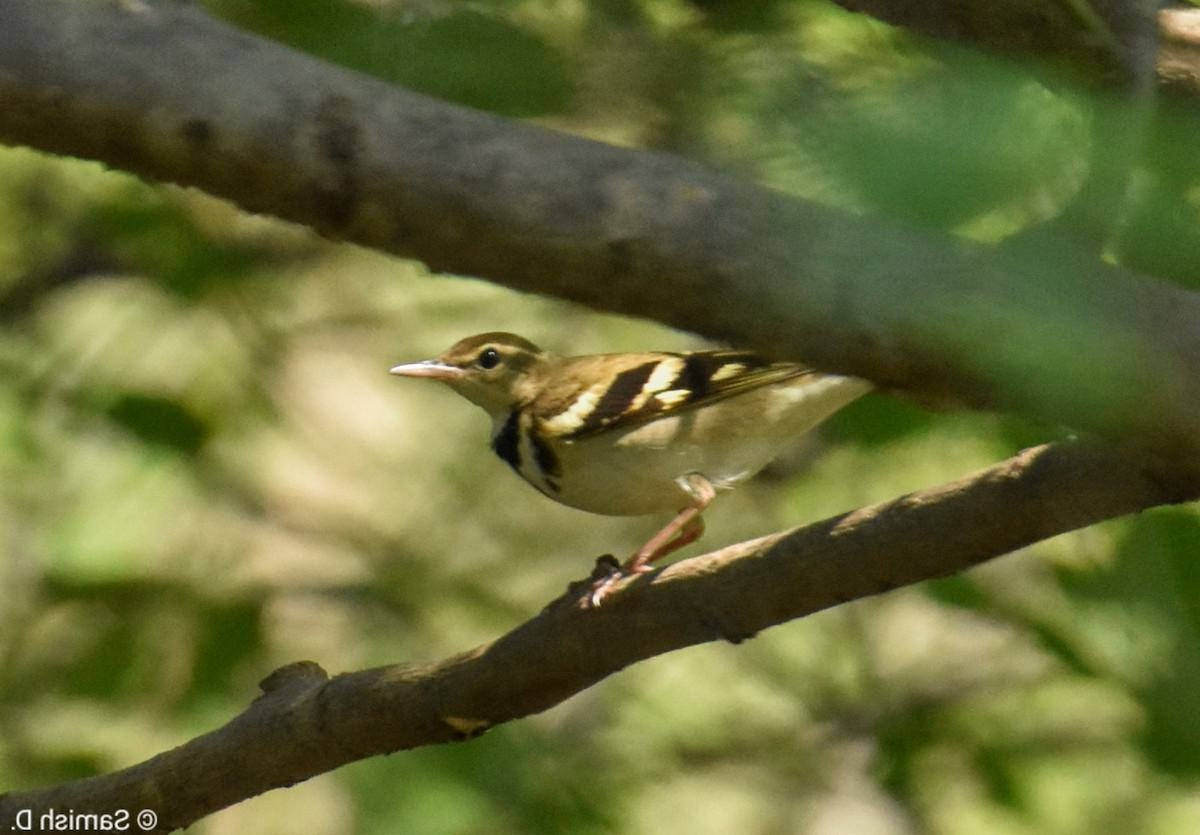wagtail: (393, 292, 918, 563)
